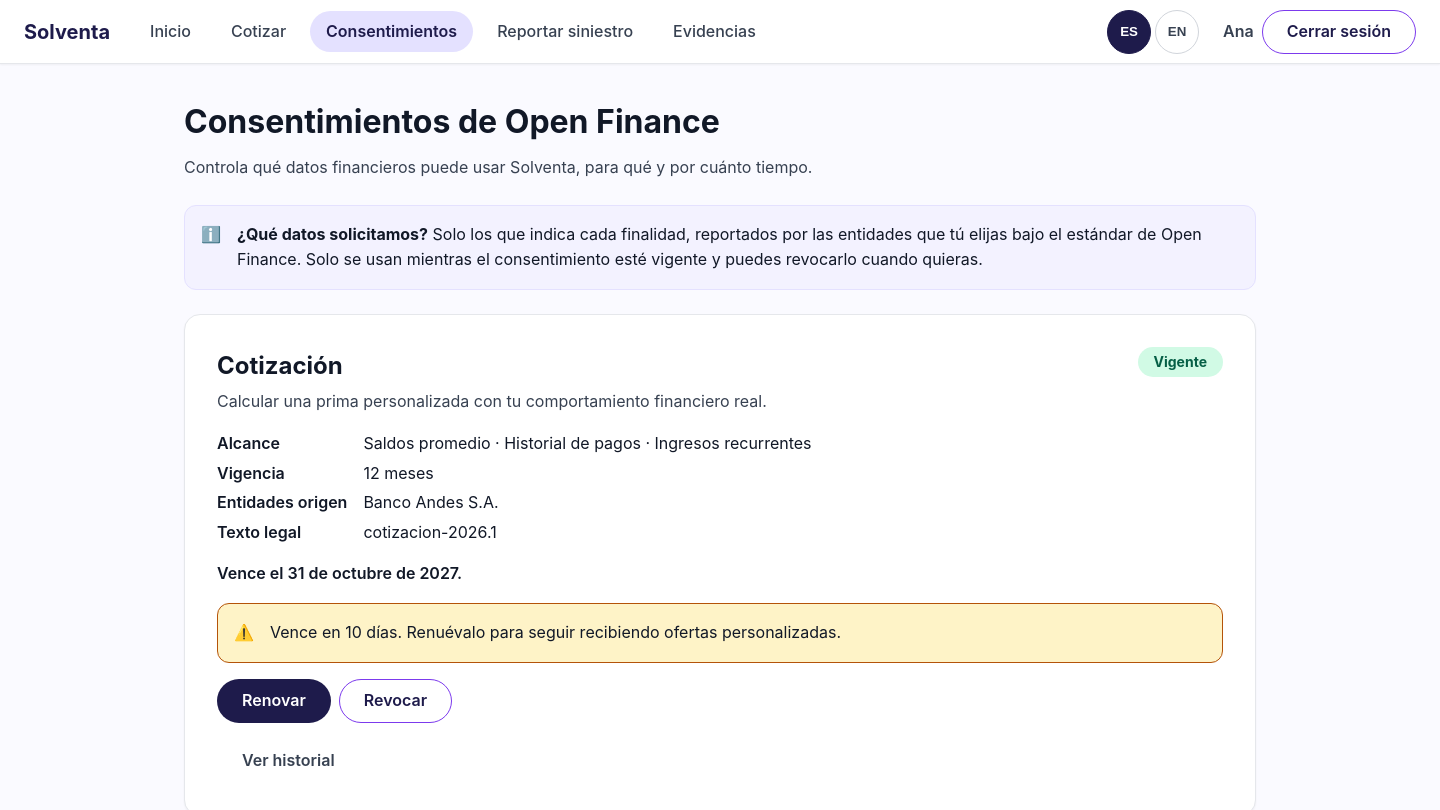
Scenario: Consentimientos de Open Finance (WEB-F02) › criterio 7: aviso de vencimiento y renovación sin repetir el flujo › a 30 días o menos avisa y permite renovar
The image size is (1440, 810).
Expected: the text "Vence en 10 días" is shown, [270, 622, 841, 642]
Step 1. Click the button "Renovar" → point(274, 700), box [217, 678, 331, 722]
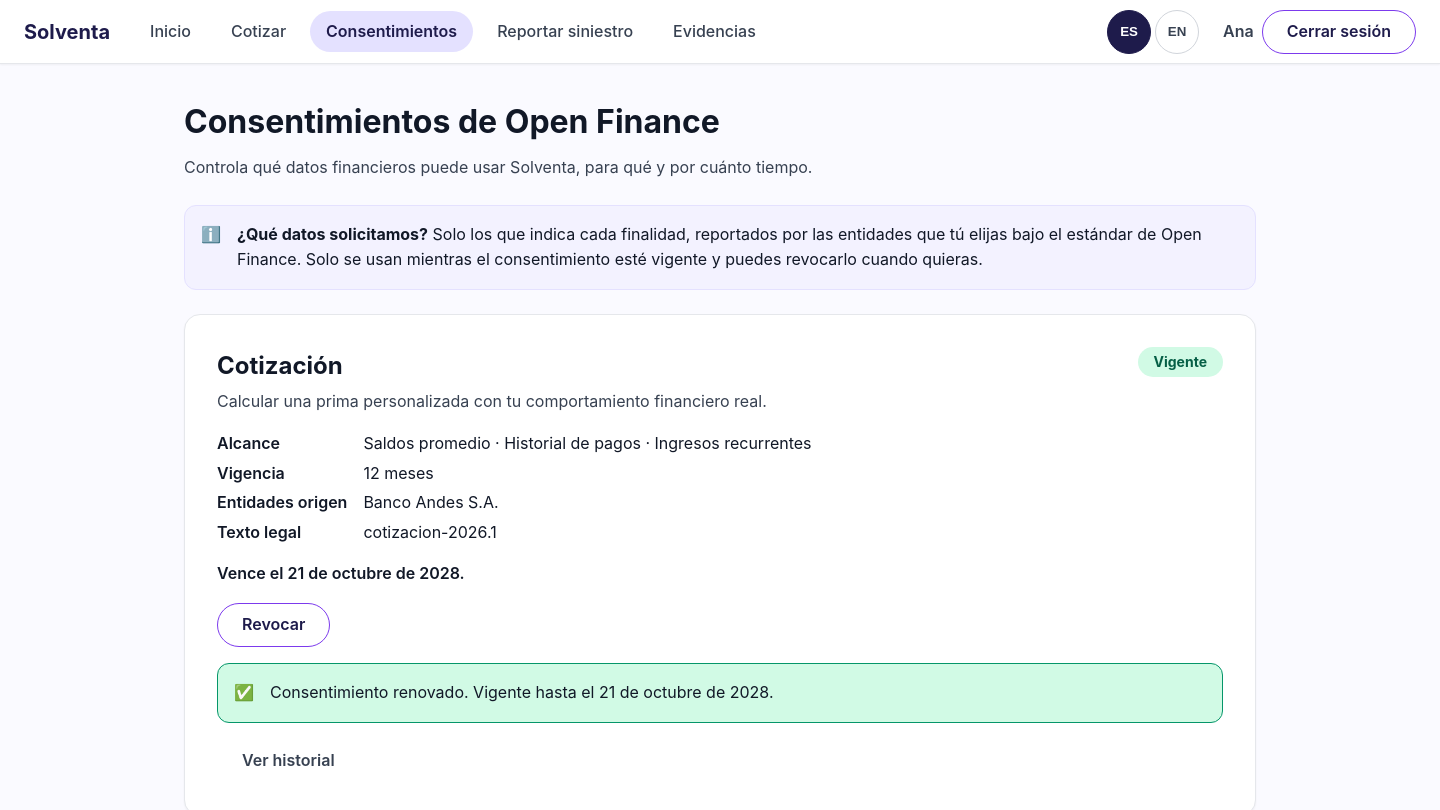
Expected: the message shows "Consentimiento renovado. Vigente hasta el", [270, 682, 774, 702]
Expected: the text "Vence en 10 días" is gone
Expected: the button "Renovar" is gone
